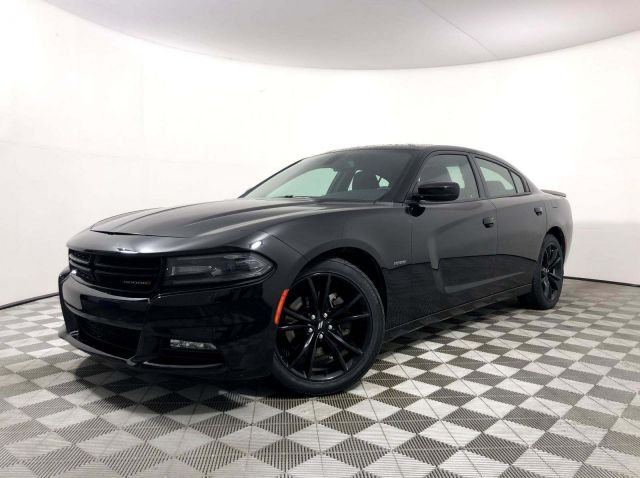car: (54, 139, 577, 391)
